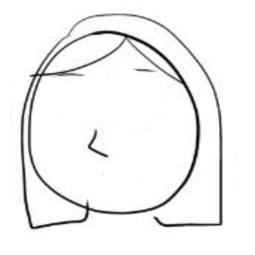eyebrow: (54, 70, 89, 79), (131, 66, 158, 74)
pointy_nose: (87, 123, 109, 159)
